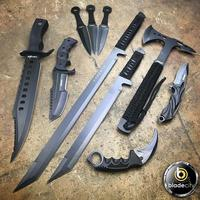knife: (12, 7, 155, 198), (11, 14, 48, 167)
